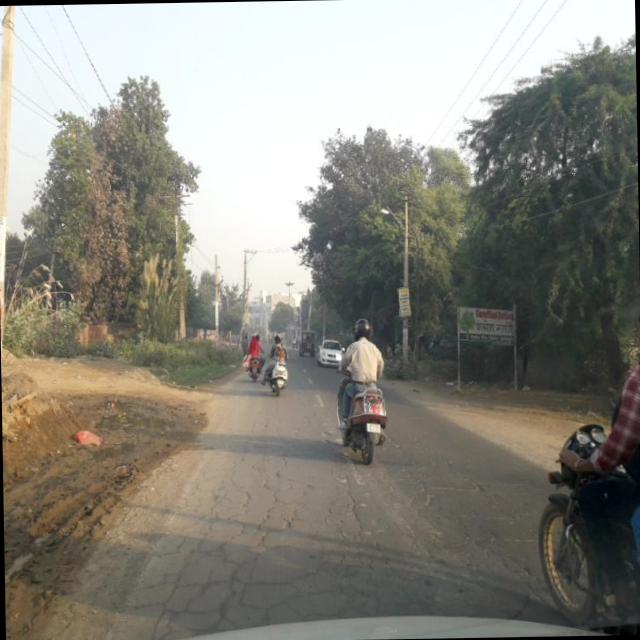crack: (110, 448, 524, 622)
